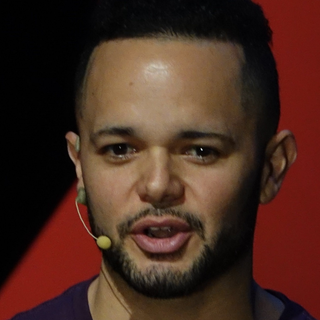eye: (96, 139, 142, 164), (180, 140, 225, 164)
